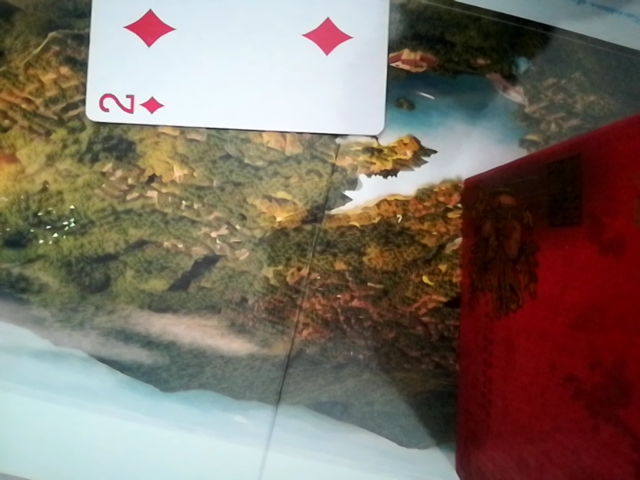fk 2: (79, 0, 393, 138)
